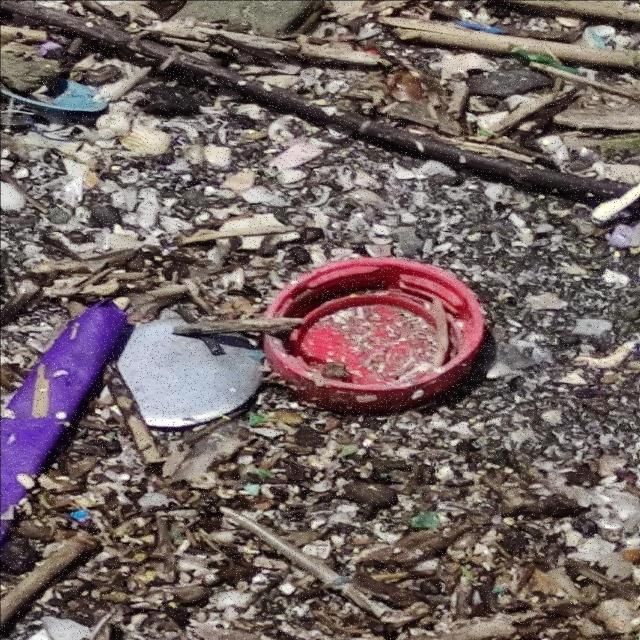plastic_waste: (250, 259, 486, 417)
